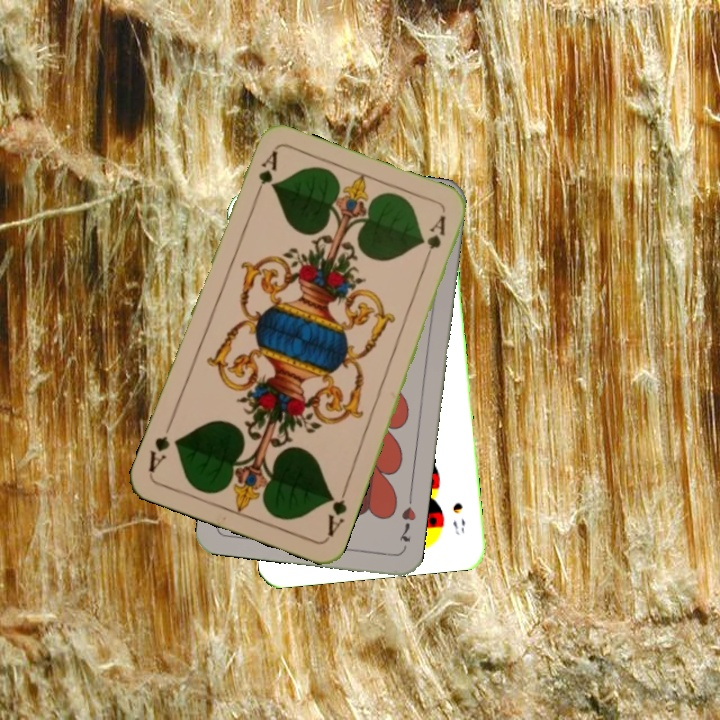GA: (249, 147, 280, 204), (323, 483, 350, 540)
H7: (395, 503, 419, 544)
S8: (448, 498, 468, 537)
